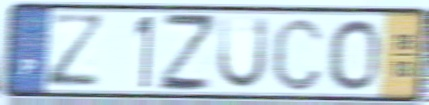1: (133, 13, 155, 91)
C: (269, 14, 327, 94)
O: (327, 16, 382, 93)
U: (214, 14, 271, 92)
Z: (44, 10, 109, 90), (157, 10, 216, 94)
